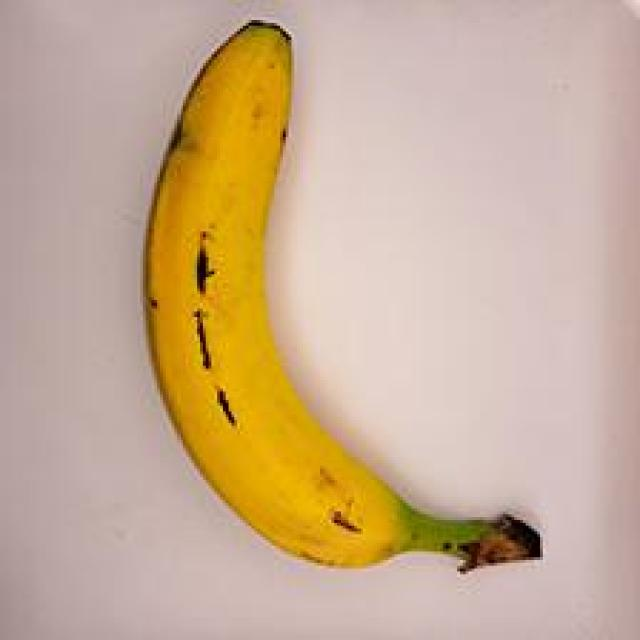ripe: (111, 11, 562, 598)
